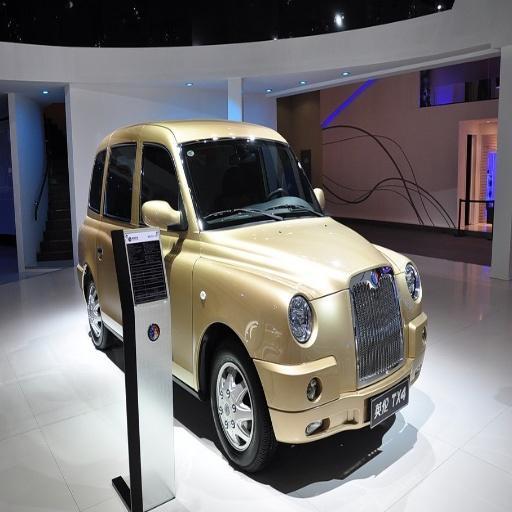front_bumper: (260, 267, 420, 441)
front_right_door: (121, 137, 189, 323)
